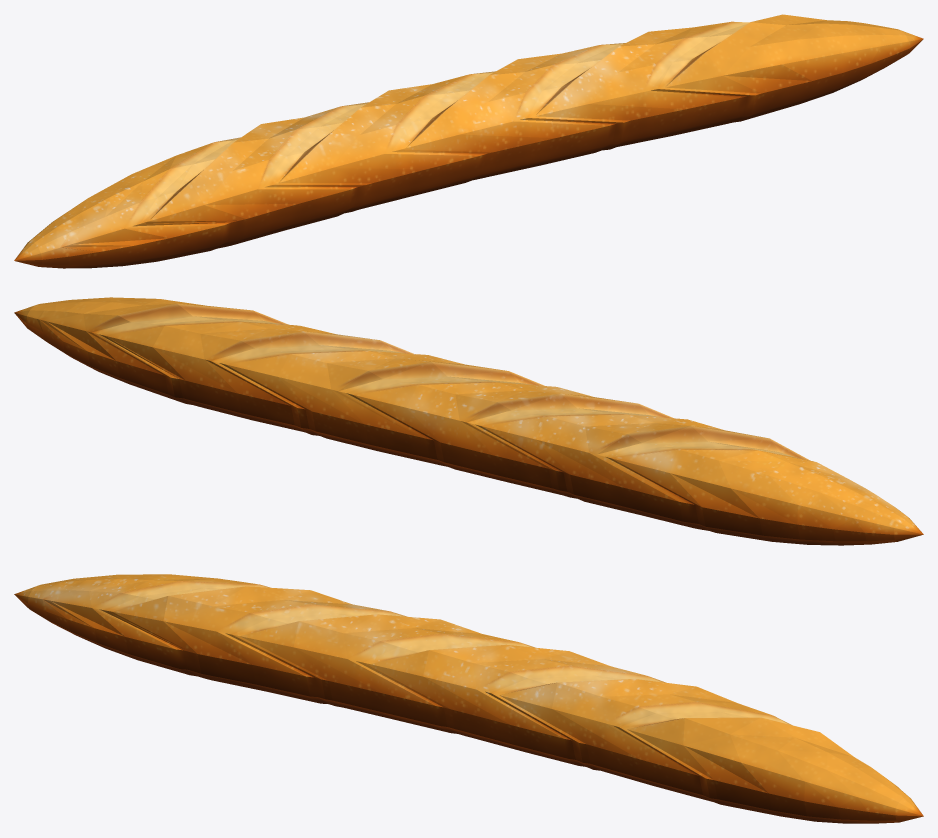
Rendered from FMS_Food_Bread_Baguette.fbx.
3 views of the same model, one above another, from view 1: azimuth 30°, elevation 25°; view 2: azimuth 150°, elevation 25°; view 3: azimuth 330°, elevation 25° (orthographic).
Visible parts, largest first — view 1: item_food_bread_baguette; view 2: item_food_bread_baguette; view 3: item_food_bread_baguette.
Boxes of the visible parts, x1,y1,x2,y2 form: item_food_bread_baguette: [14, 14, 923, 268]; item_food_bread_baguette: [14, 297, 923, 545]; item_food_bread_baguette: [14, 574, 923, 823].
Size of the model in its own units: 0.6 by 0.0562 by 0.0732.
Materials: 1 (1 with a texture image).
